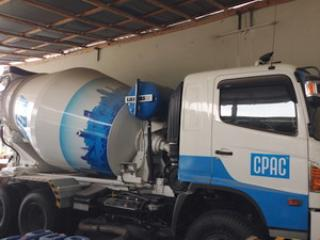cement_mixer_truck: (0, 54, 320, 240)
